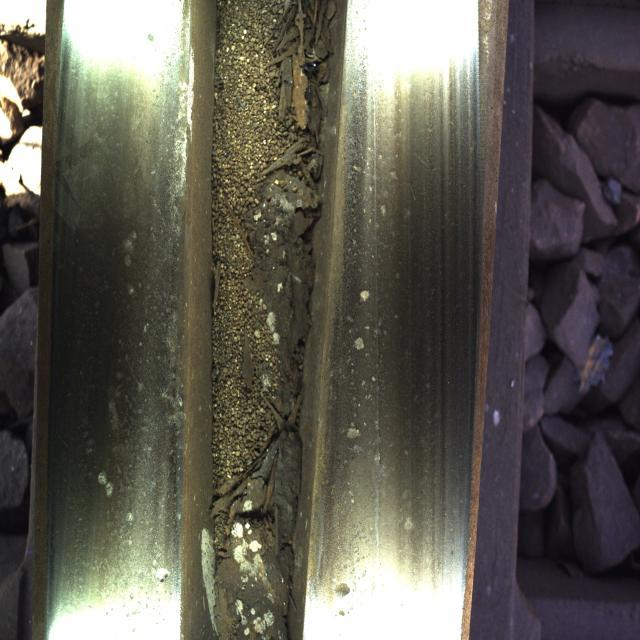scar: (104, 20, 198, 610), (328, 73, 412, 632)
